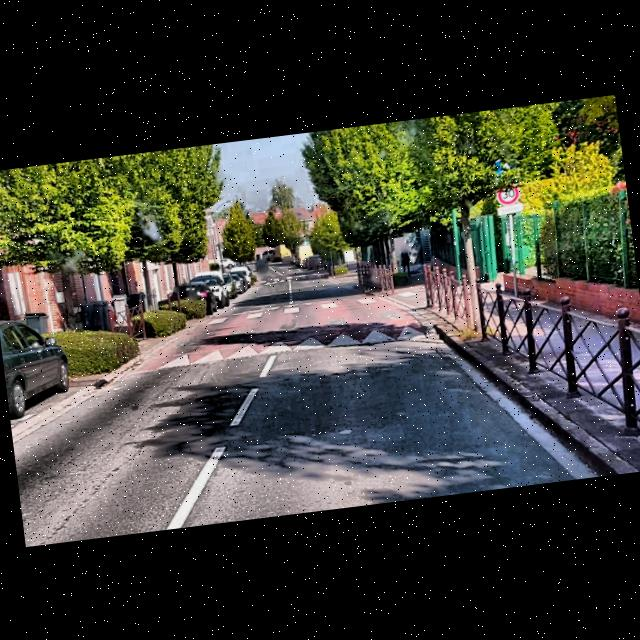speed_30: (497, 185, 519, 202)
